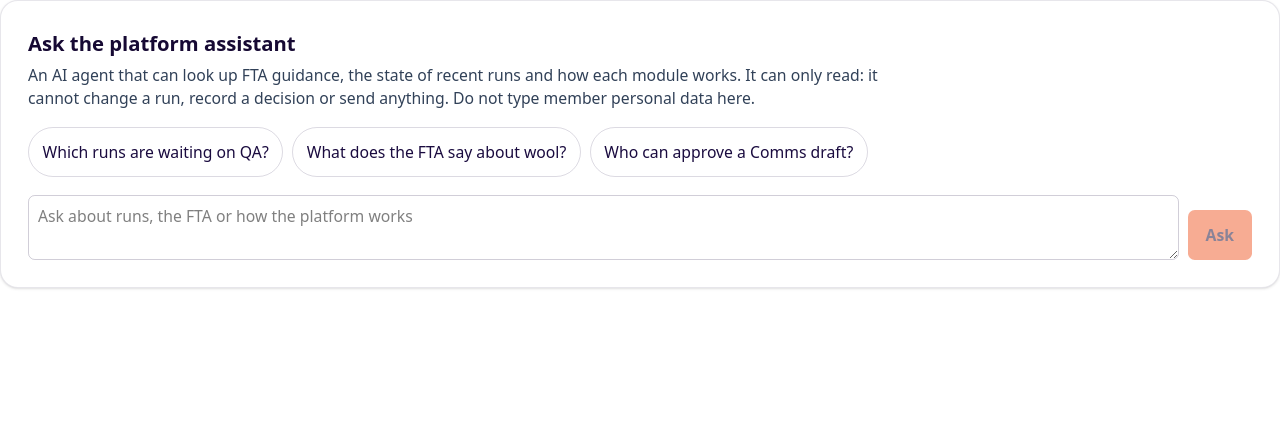
Test case: PlatformAssistant › sends the question and shows the answer, what it looked up and the disclaimer
Type "Which run is in QA?" into the text box named "Your question" at (603, 227), box [28, 194, 1178, 260]
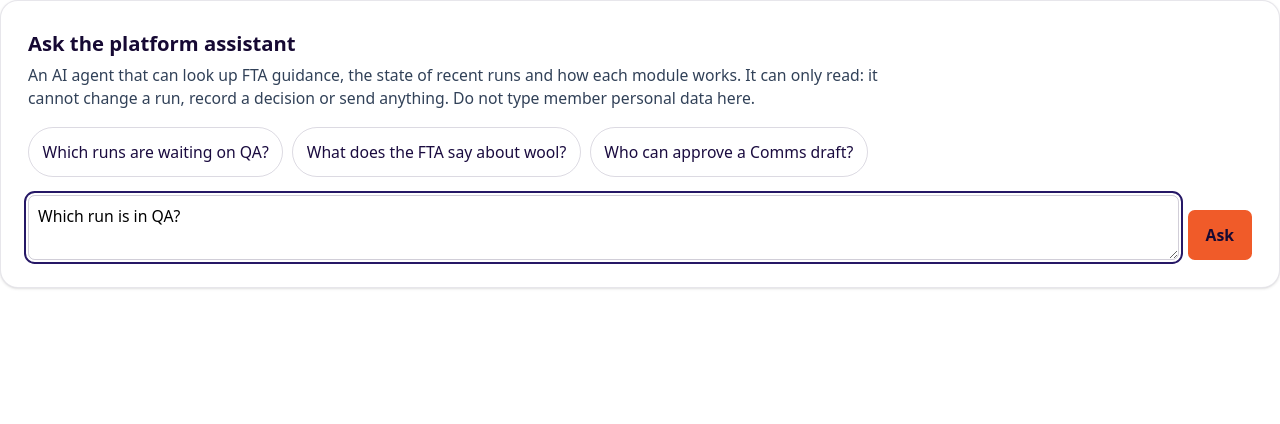
Click the button "Ask" at (1220, 235), box [1188, 210, 1252, 260]
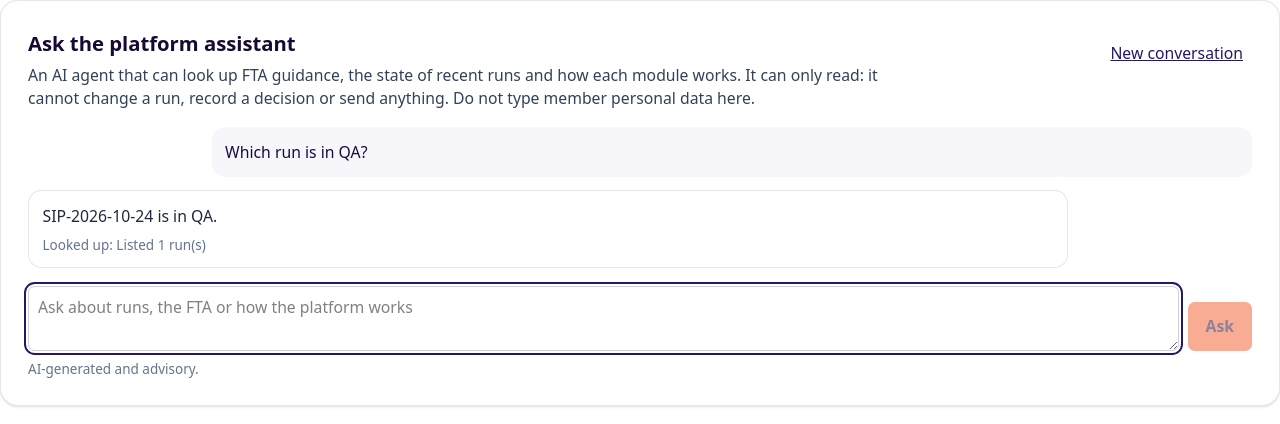
Check: the text "SIP-2026-10-24 is in QA." is shown, box [42, 204, 217, 226]
Check: the text "Looked up: Listed 1 run(s)" is shown, box [42, 236, 206, 254]
Check: the text "AI-generated and advisory." is shown, box [28, 360, 199, 378]
